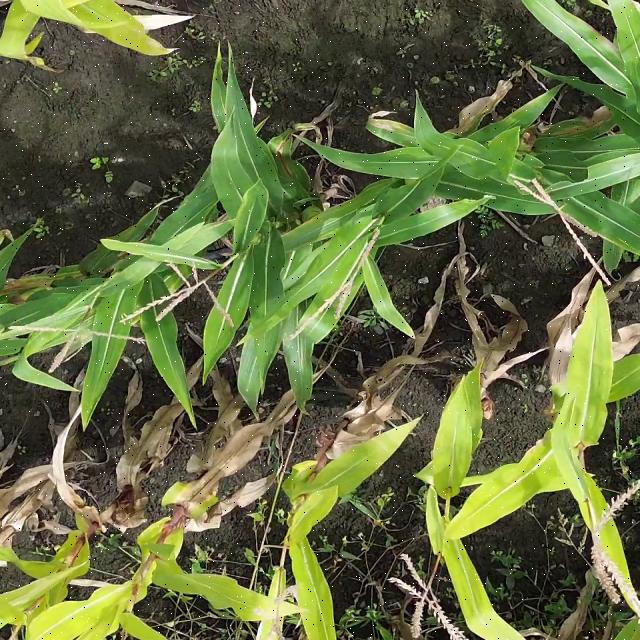gray-leaf-spot: (280, 330, 316, 379)
northern-leaf-blight: (554, 108, 617, 140), (270, 136, 306, 182), (368, 120, 408, 142)
